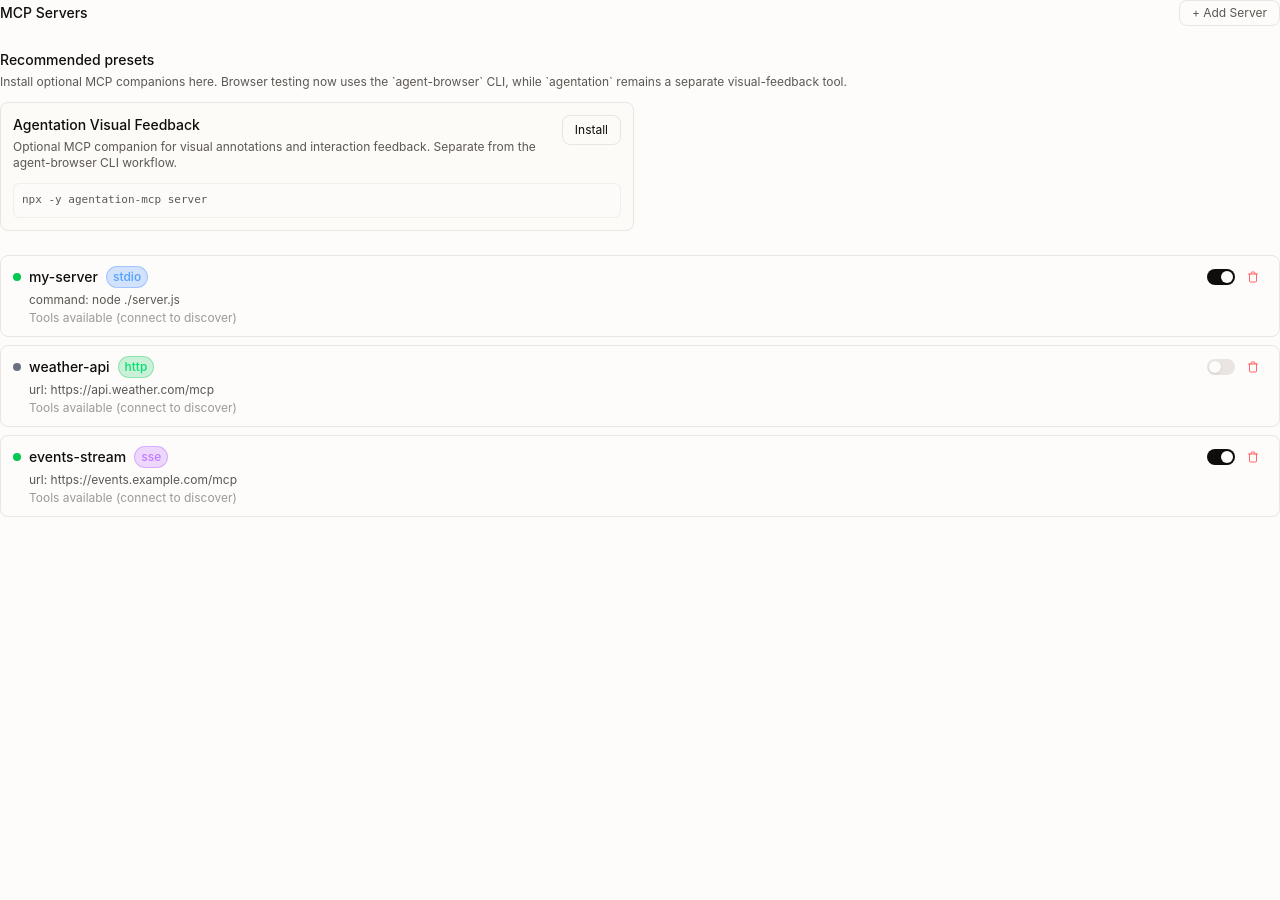
Test: McpPanel › cancel add form closes it
Expected: the element with test id "mcp-panel" is shown, [0,0,1279,516]
What coordinates should you click on to do the following:
click the button with test id "mcp-add-btn"
I would click on:
 (1229, 13)
Its box is [1179,0,1279,26].
(page scrolled)
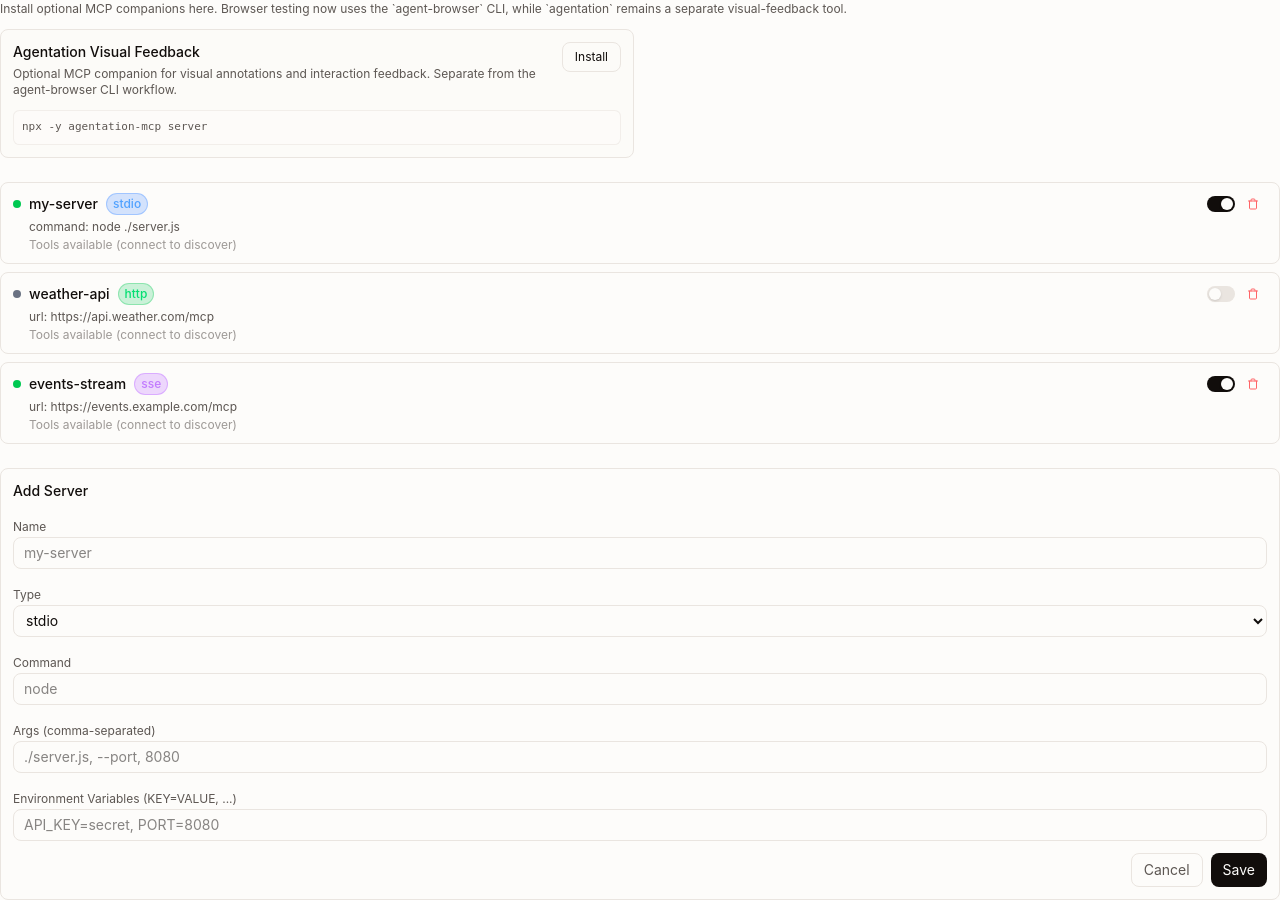
Result: the element with test id "mcp-add-form" is shown at [0,468,1279,899]
What coordinates should you click on to do the following:
click the button with test id "mcp-add-cancel-btn"
I would click on:
 (1167, 870)
Its box is [1131,852,1203,886].
(page scrolled)
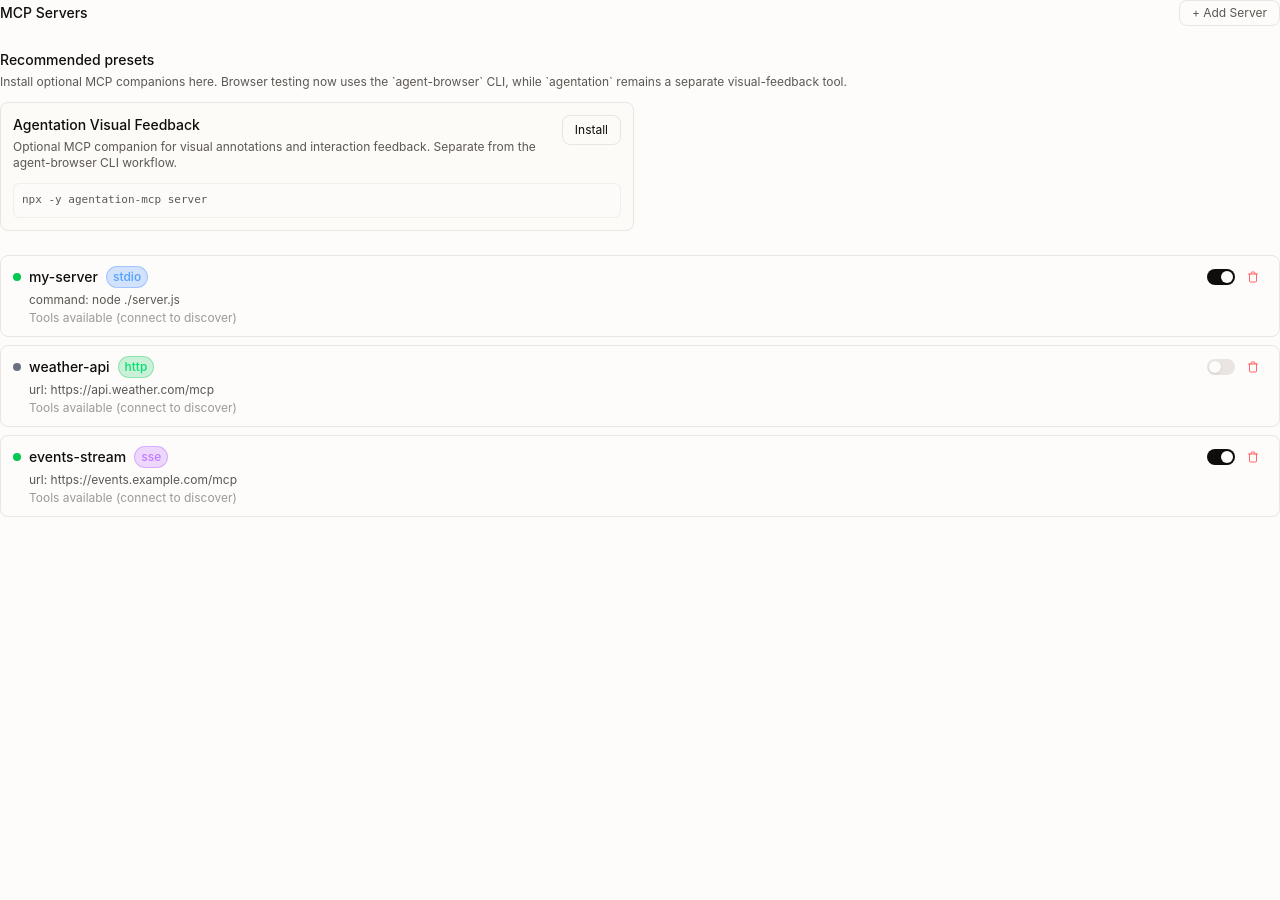
Result: the element with test id "mcp-add-form" is gone
